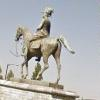Statue: (8, 8, 68, 84)
